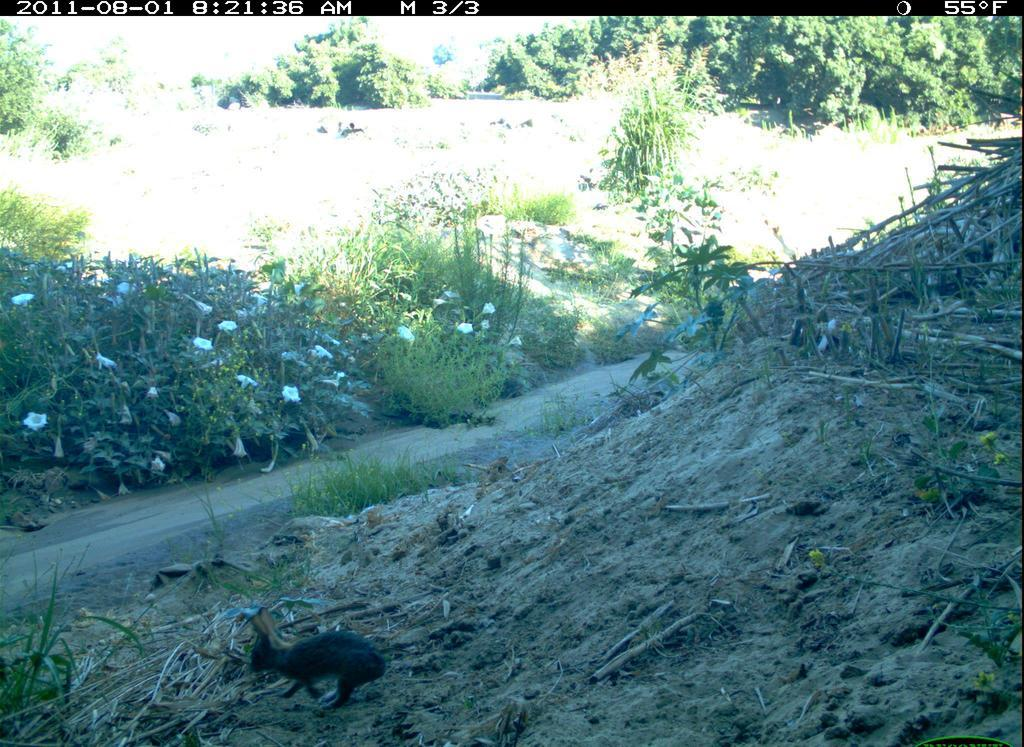rabbit: (232, 606, 390, 719)
